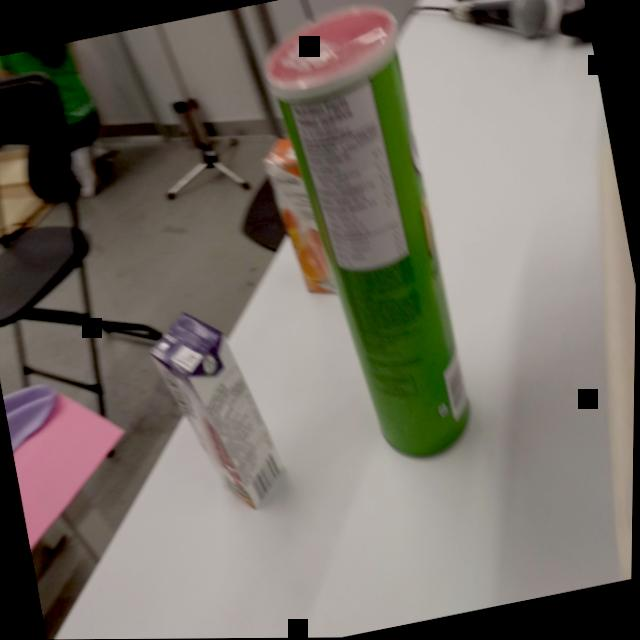grape_juice: (139, 290, 298, 531)
pringles: (246, 0, 492, 489)
